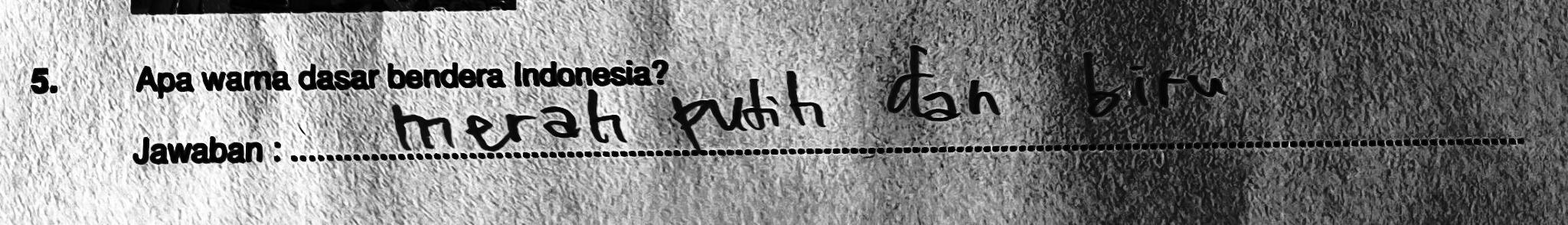jawaban: (389, 85, 631, 157), (663, 63, 832, 157), (1078, 41, 1231, 120), (882, 42, 1005, 122)
